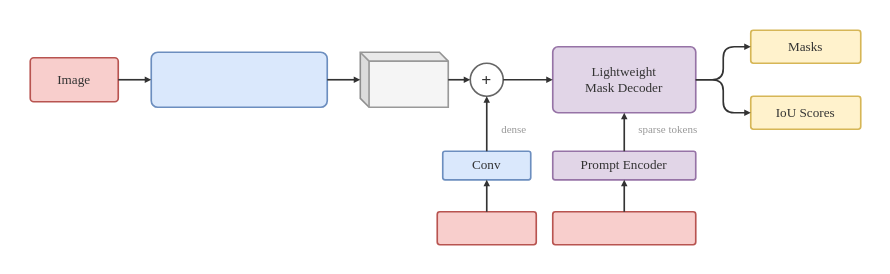
Some shapes in this 890 by 274 pixel diagram are drawn without their labels. The centre of each missing label's shape, as x and y in pixels:
"Image Embedding" belongs at point (404, 79).
"Image Encoder (ViT, MAE pre-trained)" belongs at point (239, 79).
"Mask prompt" belongs at point (486, 227).
"Points / Box / Text" belongs at point (623, 227).
